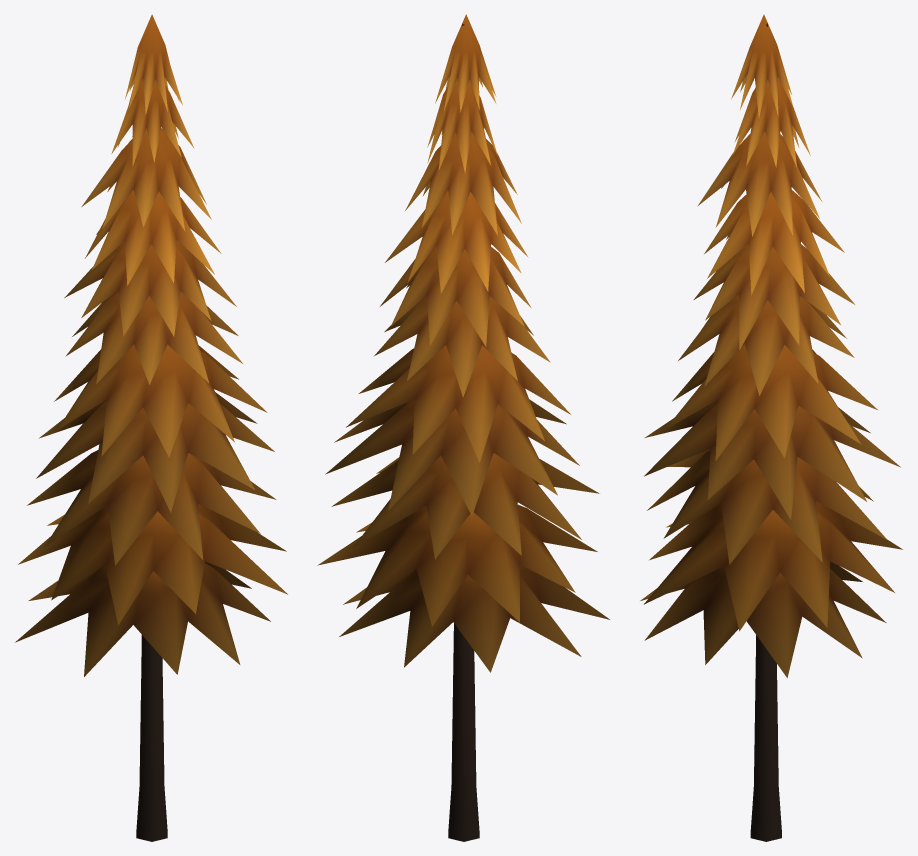
3 renders of one model, left to right at view 1: azimuth 30°, elevation 25°; view 2: azimuth 150°, elevation 25°; view 3: azimuth 270°, elevation 25°, orthographic.
Visible parts, largest first — view 1: TR_LarchAmber; view 2: TR_LarchAmber; view 3: TR_LarchAmber.
Boxes of the visible parts, bbox=[...] form: TR_LarchAmber: bbox=[15, 14, 287, 841]; TR_LarchAmber: bbox=[317, 14, 609, 841]; TR_LarchAmber: bbox=[640, 14, 902, 841].
Size of the model in its own units: 6.41 by 20.12 by 5.88.
